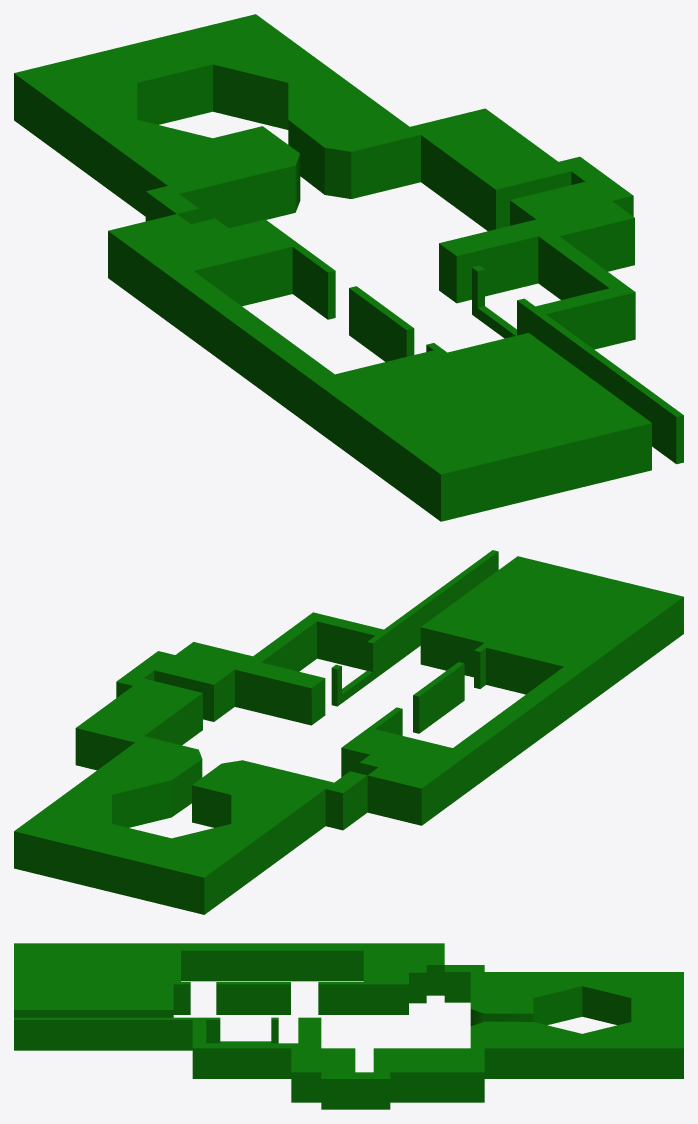
File: World_CollisionModel.obj
3 renders of one model, top to bottom at view 1: azimuth 30°, elevation 25°; view 2: azimuth 150°, elevation 25°; view 3: azimuth 270°, elevation 25°, orthographic. The views are drawn at different scales.
Visible parts, largest first — view 1: polySurface25; view 2: polySurface25; view 3: polySurface25.
Part boxes in pixels (left/top/right/bottom): polySurface25: left=14, top=14, right=683, bottom=521; polySurface25: left=14, top=550, right=683, bottom=914; polySurface25: left=14, top=943, right=683, bottom=1109.
Size of the model in its own units: 98.19 by 10.31 by 205.
